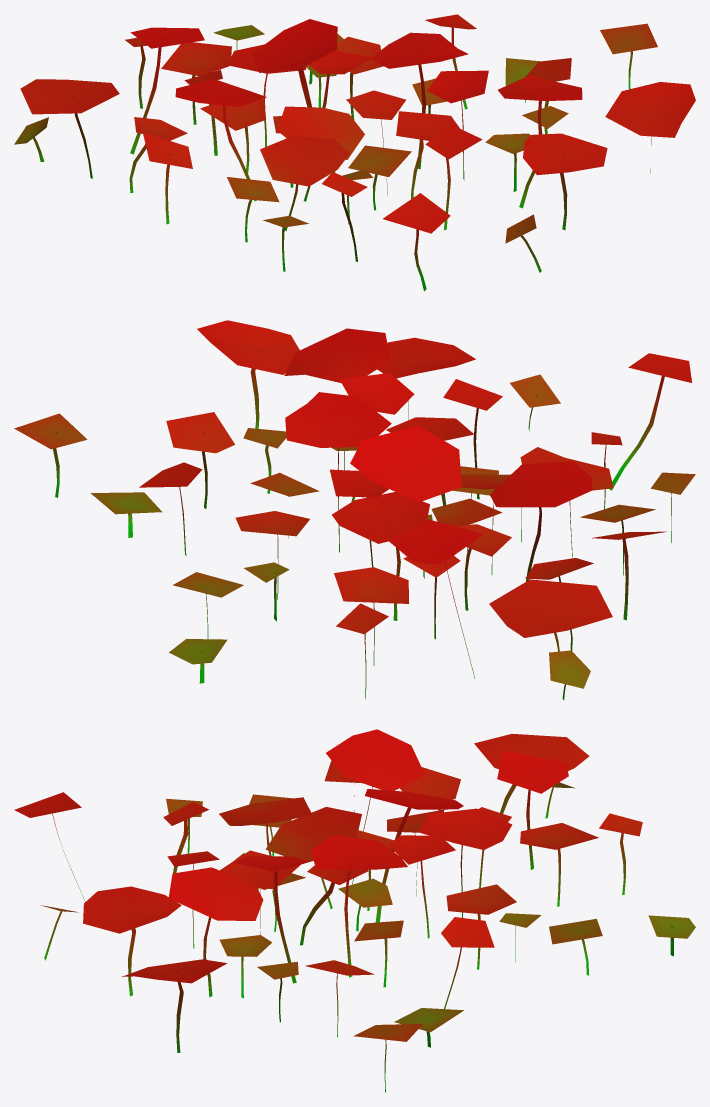
The model's file is Violet Wood Sorrel_LOD1_Var4_uchkajuia.fbx.
3 renders of one model, top to bottom at view 1: azimuth 30°, elevation 25°; view 2: azimuth 150°, elevation 25°; view 3: azimuth 270°, elevation 25°, orthographic. The views are drawn at different scales.
Visible parts, largest first — view 1: _5ec5_Var4_LOD1; view 2: _5ec5_Var4_LOD1; view 3: _5ec5_Var4_LOD1.
Part boxes in pixels (x1,y1,x2,y2): _5ec5_Var4_LOD1: [14, 14, 695, 291]; _5ec5_Var4_LOD1: [14, 320, 695, 699]; _5ec5_Var4_LOD1: [14, 729, 695, 1092].
Size of the model in its own units: 51.31 by 12.06 by 49.97.
